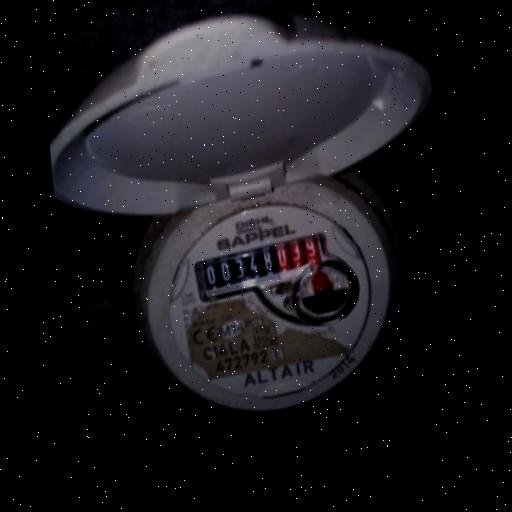0: (200, 261, 222, 292), (215, 258, 236, 289), (273, 244, 291, 272)
3: (285, 236, 307, 269), (231, 253, 251, 285)
4: (244, 250, 263, 278)
8: (259, 247, 278, 277)
9: (301, 232, 323, 274)
border_water_meter_number: (192, 230, 332, 303)
